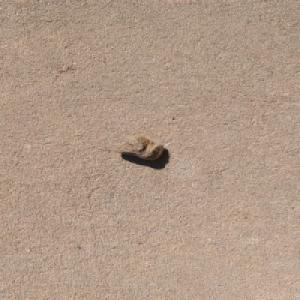Rock: (112, 135, 165, 160)
